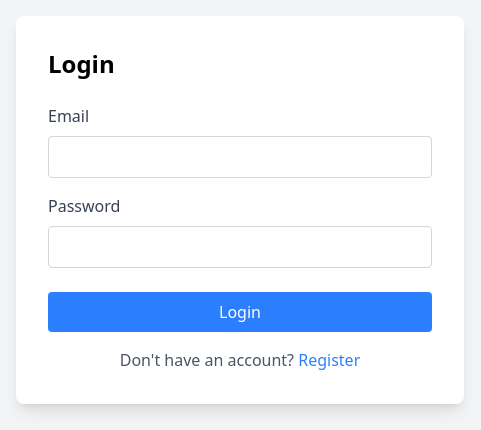
Test: LoginPage › should show loading state during login
Type and submit
Type "test@example.com" into the field labelled "Email".
click(240, 157); type("test@example.com")  # box [48, 136, 432, 178]
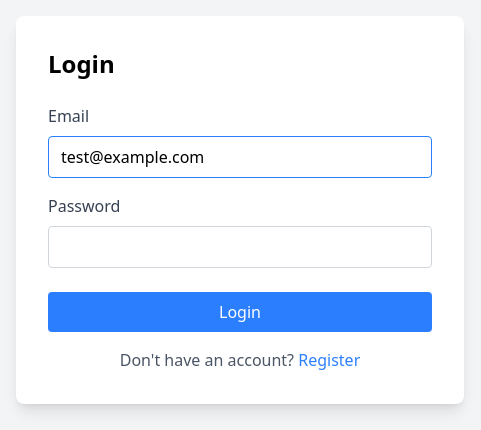
Type "Test1234!" into the password field labelled "Password".
click(240, 247); type("Test1234!")  # box [48, 226, 432, 268]
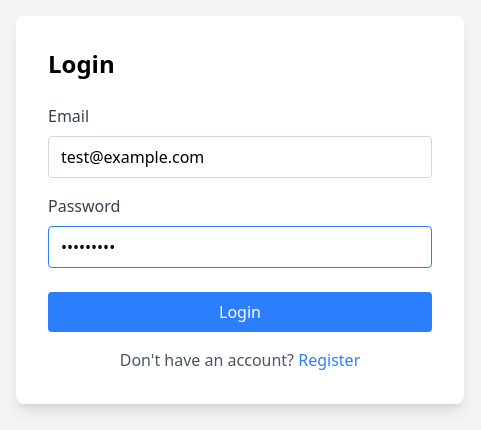
Click the button "Login".
click(240, 312)  # box [48, 292, 432, 332]
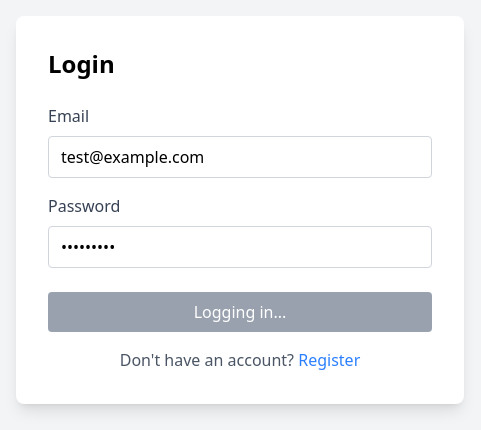
Now the button "Logging in..." is disabled, box [48, 292, 432, 332]
